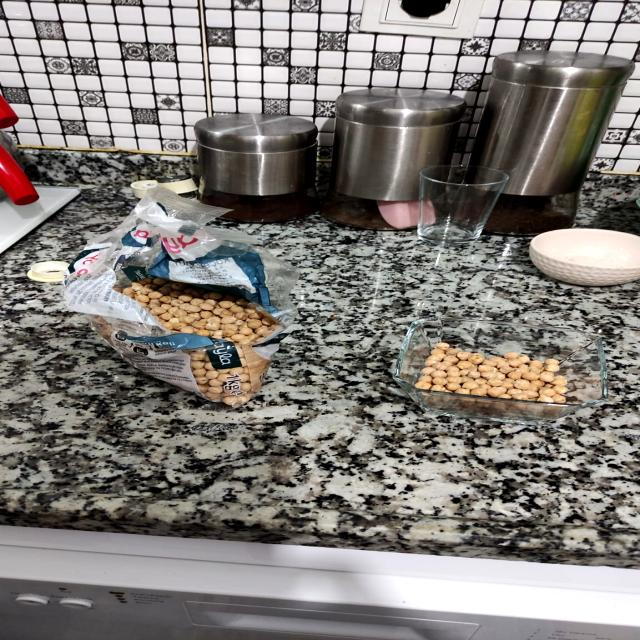chickpeas: (67, 248, 326, 406), (394, 328, 609, 418)
